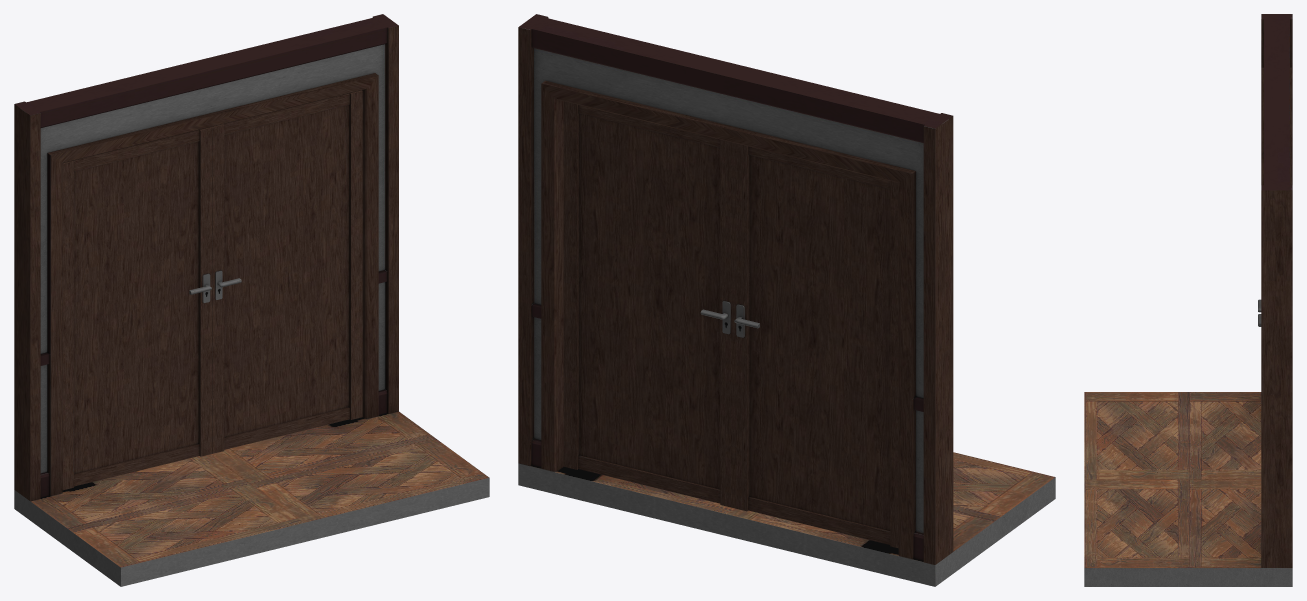
The model's file is keydoor 1.fbx.
3 views of the same model, side by side, from view 1: azimuth 30°, elevation 25°; view 2: azimuth 150°, elevation 25°; view 3: azimuth 270°, elevation 25° (orthographic). The views are drawn at different scales.
Parts seen in each view (by area): view 1: Wall_01_Door_Hole.001, Door; view 2: Door, Wall_01_Door_Hole.001; view 3: Wall_01_Door_Hole.001.
Part boxes in pixels (x1,y1,x2,y2): Wall_01_Door_Hole.001: [14, 14, 489, 586]; Door: [62, 90, 362, 490]; Door: [563, 101, 898, 548]; Wall_01_Door_Hole.001: [518, 14, 1055, 586]; Wall_01_Door_Hole.001: [1084, 14, 1292, 586].
Size of the model in its own units: 400 by 420 by 200.
